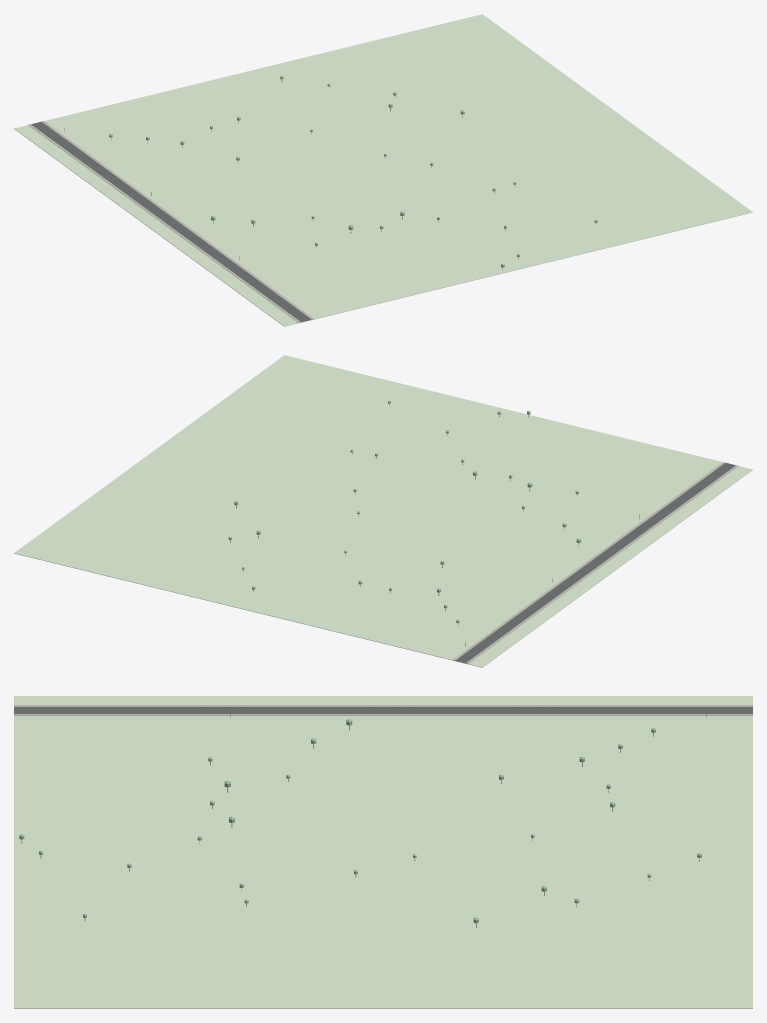
File: chunk_2_3_low.glb
3 views of the same model, one above another, from view 1: azimuth 30°, elevation 25°; view 2: azimuth 150°, elevation 25°; view 3: azimuth 270°, elevation 25° (orthographic). The views are drawn at different scales.
Parts seen in each view (by area): view 1: city_grass, city_world_asphalt, city_world_sidewalk, city_curb; view 2: city_grass, city_world_asphalt, city_world_sidewalk, city_curb; view 3: city_grass, city_world_asphalt, city_world_sidewalk, city_curb, city_foliage_dark.
Part boxes in pixels (x1,y1,x2,y2): city_grass: (14, 14, 752, 326); city_world_asphalt: (31, 122, 311, 322); city_world_sidewalk: (28, 121, 313, 322); city_curb: (31, 121, 311, 321); city_grass: (14, 355, 752, 667); city_world_asphalt: (455, 463, 735, 663); city_world_sidewalk: (453, 462, 738, 663); city_curb: (455, 462, 735, 662); city_grass: (14, 696, 752, 1008); city_world_asphalt: (14, 707, 752, 713); city_world_sidewalk: (14, 705, 752, 715); city_curb: (14, 705, 752, 715); city_foliage_dark: (19, 719, 701, 923).
Size of the model in its own units: 512 by 9.56 by 512.
